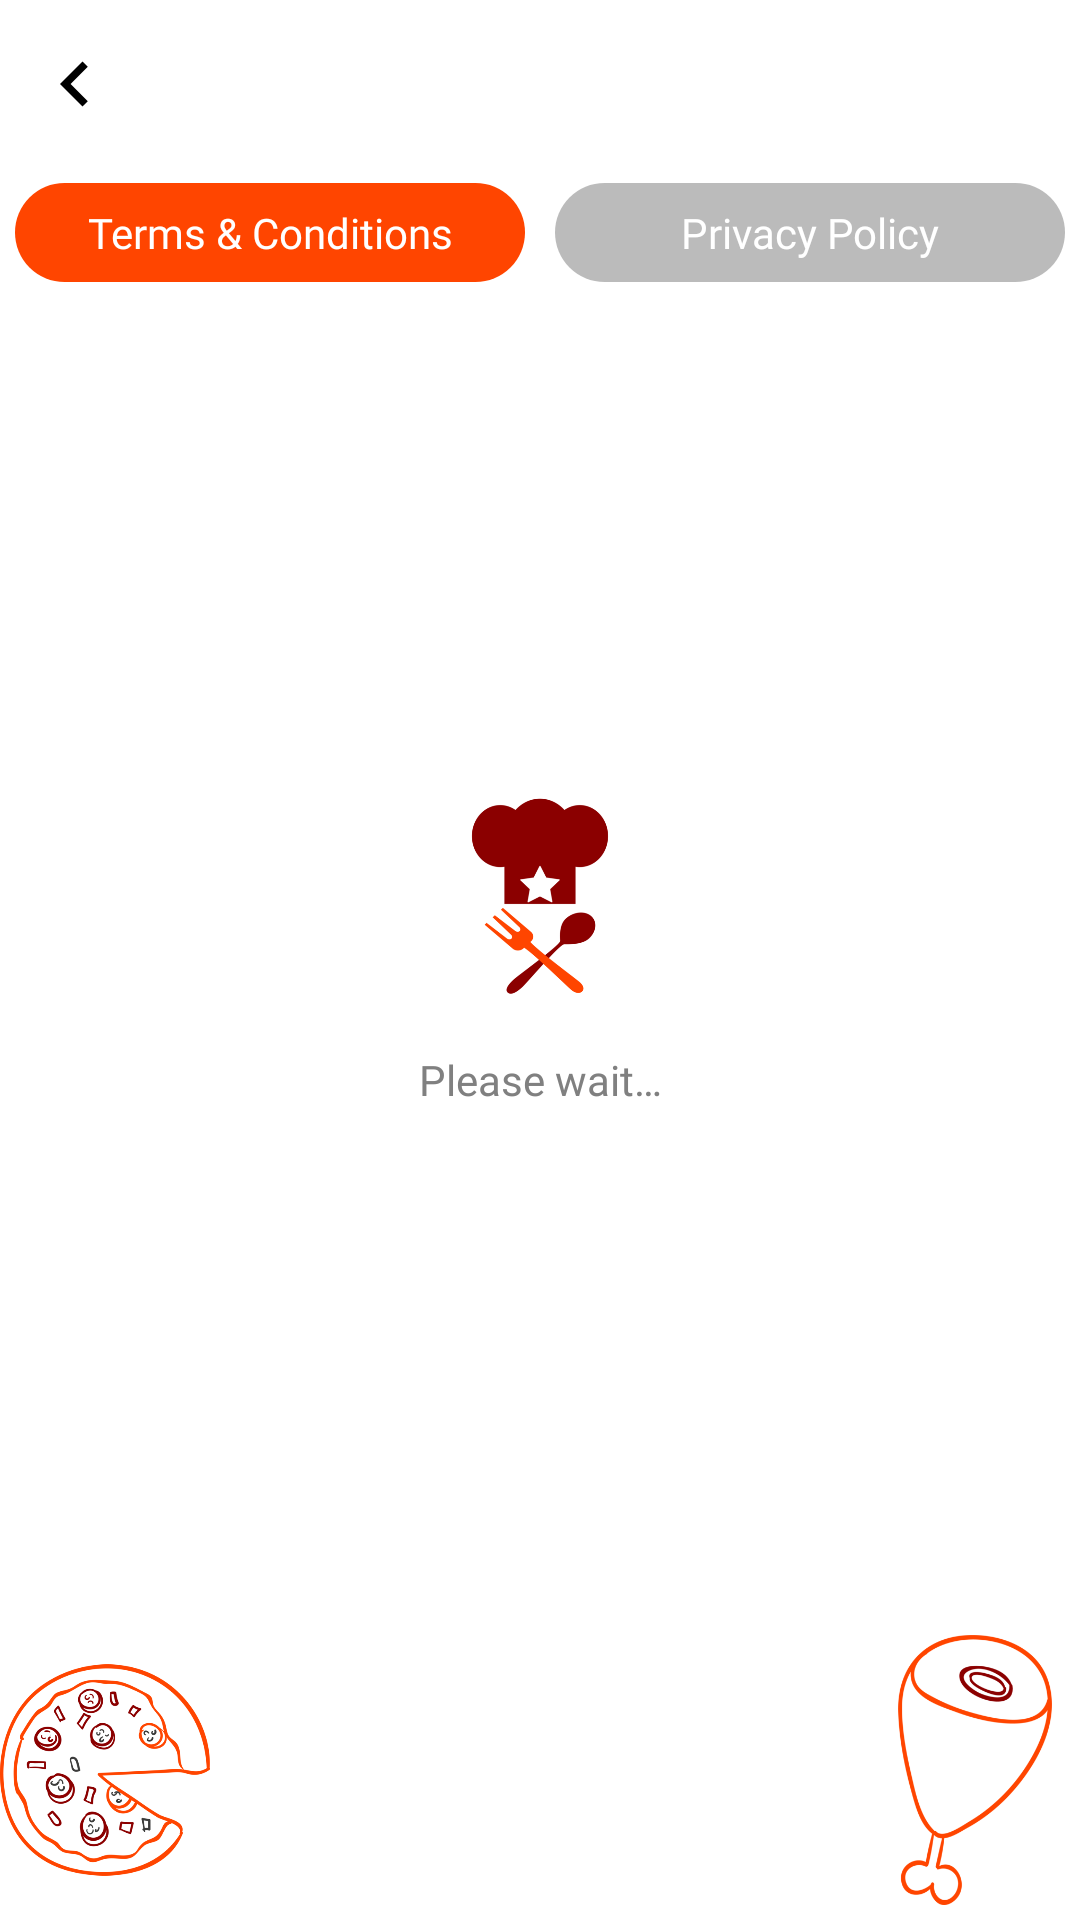

Named icons in this screenshot (1080w x 1920h) and their bounding boxes, (left=x1, top=y1, right=x2, bottom=y2):
steak: (left=898, top=1635, right=1052, bottom=1905)
